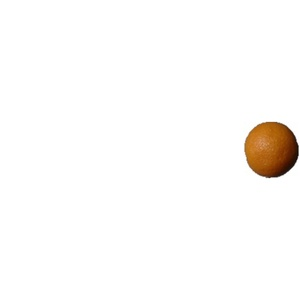laranja: (237, 117, 299, 181)
